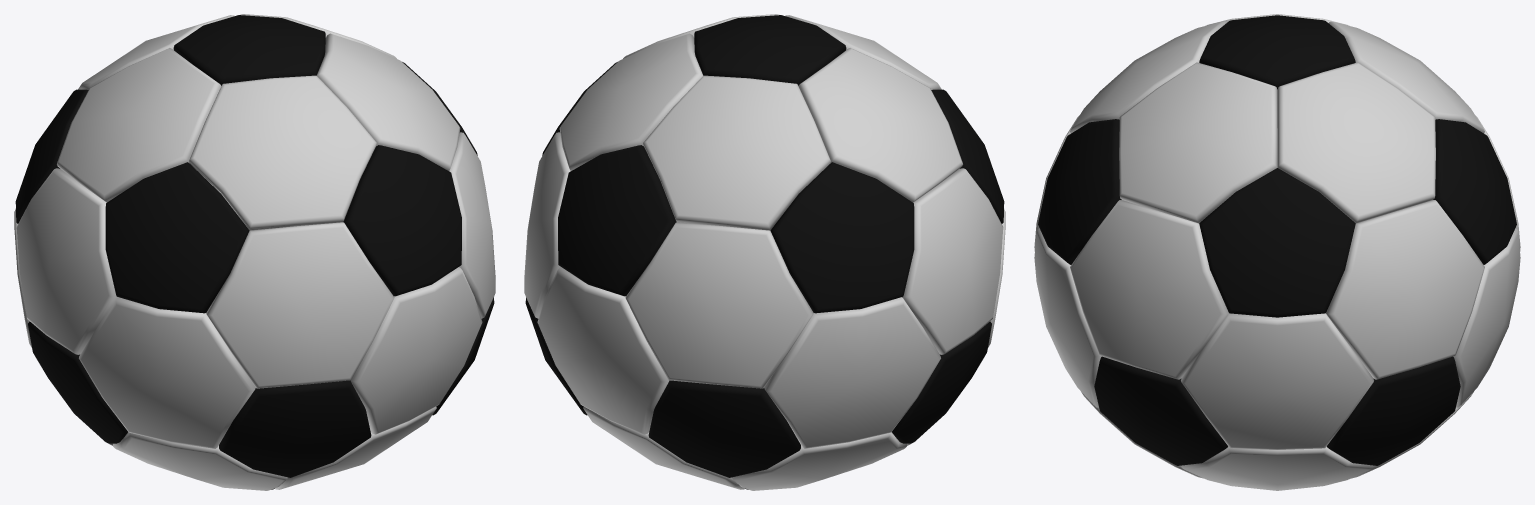
Rendered from soccerBall.fbx.
3 renders of one model, left to right at view 1: azimuth 30°, elevation 25°; view 2: azimuth 150°, elevation 25°; view 3: azimuth 270°, elevation 25°, orthographic.
Visible parts, largest first — view 1: ballSoccer; view 2: ballSoccer; view 3: ballSoccer.
Part boxes in pixels (x1,y1,x2,y2): ballSoccer: (14,14,495,490); ballSoccer: (524,14,1005,490); ballSoccer: (1034,14,1520,490).
Bounding box in the file's own units: 1.04 × 1.04 × 1.05.
Materials: 1 (1 with a texture image).
